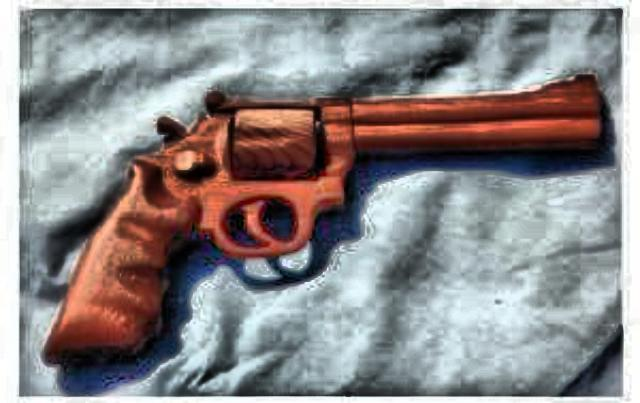pistol: (41, 66, 599, 364)
